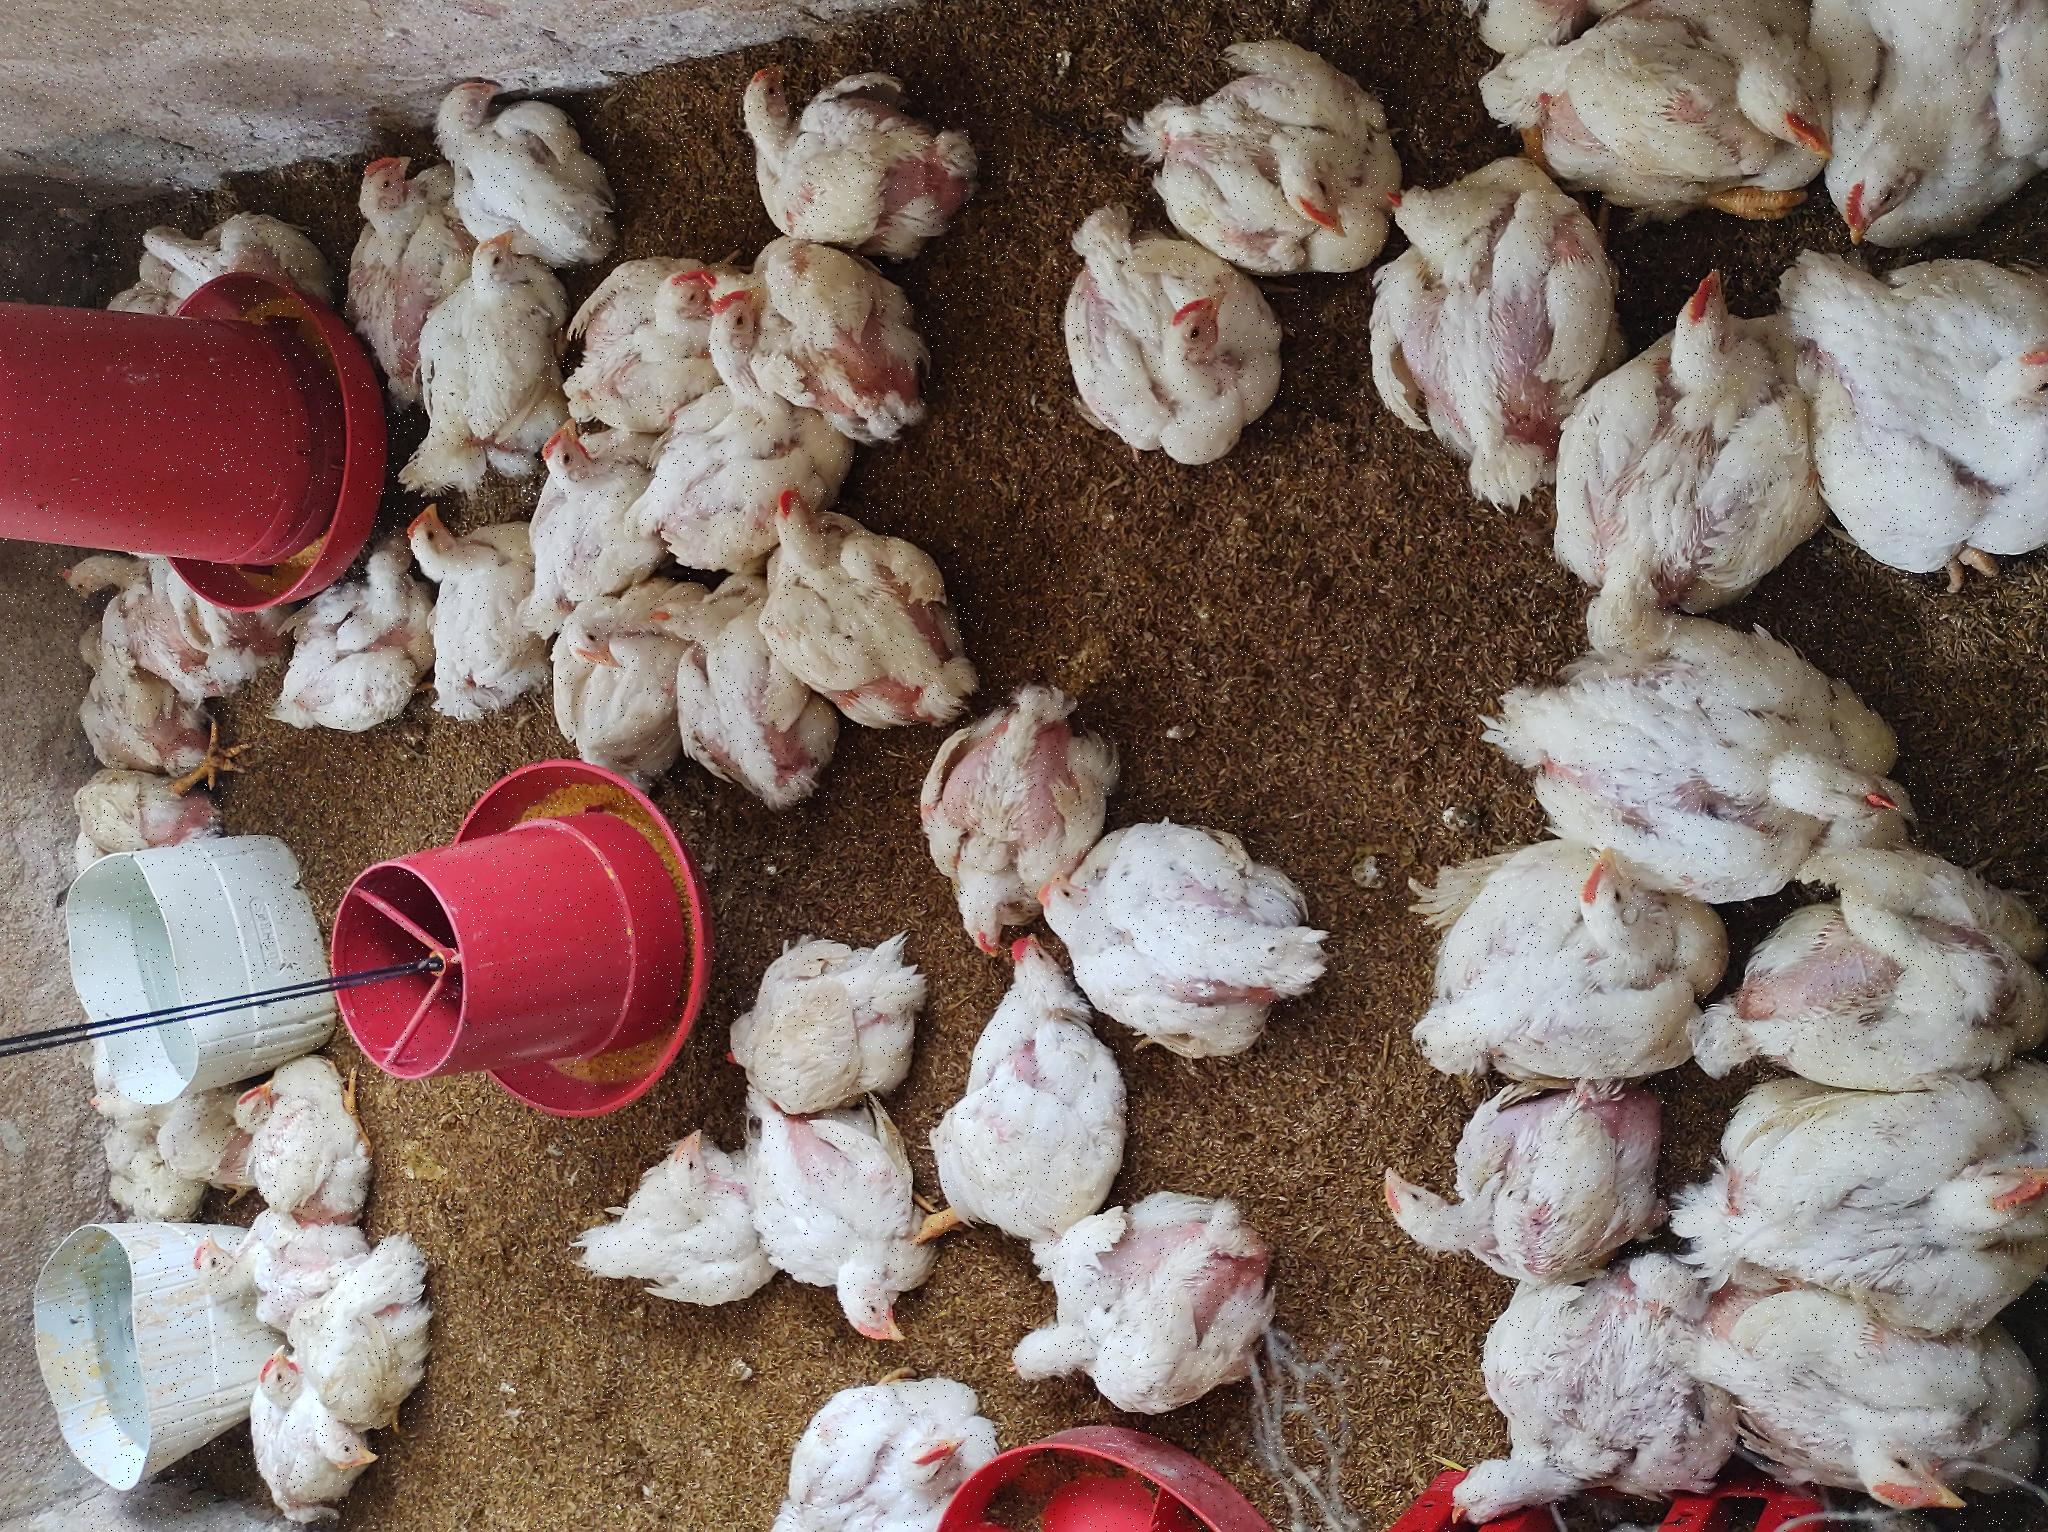Pollos: (100, 986, 327, 1283), (1269, 1122, 1498, 1389), (278, 925, 594, 1104), (1034, 1361, 1359, 1532), (491, 1044, 695, 1307), (578, 920, 862, 1107), (1073, 1056, 1292, 1287), (1292, 727, 1495, 975), (820, 755, 1038, 983), (185, 755, 426, 940), (1097, 700, 1276, 940), (738, 653, 948, 827), (420, 726, 610, 912), (219, 574, 410, 760), (236, 1378, 462, 1532), (782, 404, 1039, 533), (2, 784, 159, 990), (457, 1400, 697, 1532), (632, 55, 795, 243), (1060, 426, 1289, 558), (1302, 441, 1478, 608), (795, 267, 997, 412), (55, 320, 262, 446), (751, 537, 928, 669), (1178, 327, 1392, 434), (1113, 562, 1268, 710), (325, 233, 475, 377), (927, 533, 1121, 639), (11, 1435, 217, 1532), (763, 71, 878, 204), (14, 233, 180, 323), (216, 191, 322, 307), (915, 39, 1004, 148), (1245, 137, 1324, 241), (1157, 684, 1231, 780), (401, 82, 455, 150)
